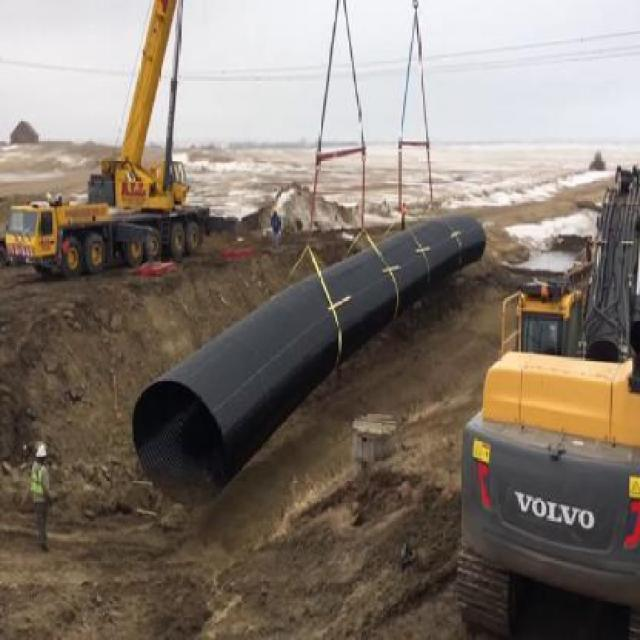Mobile Crane: (3, 0, 229, 278)
